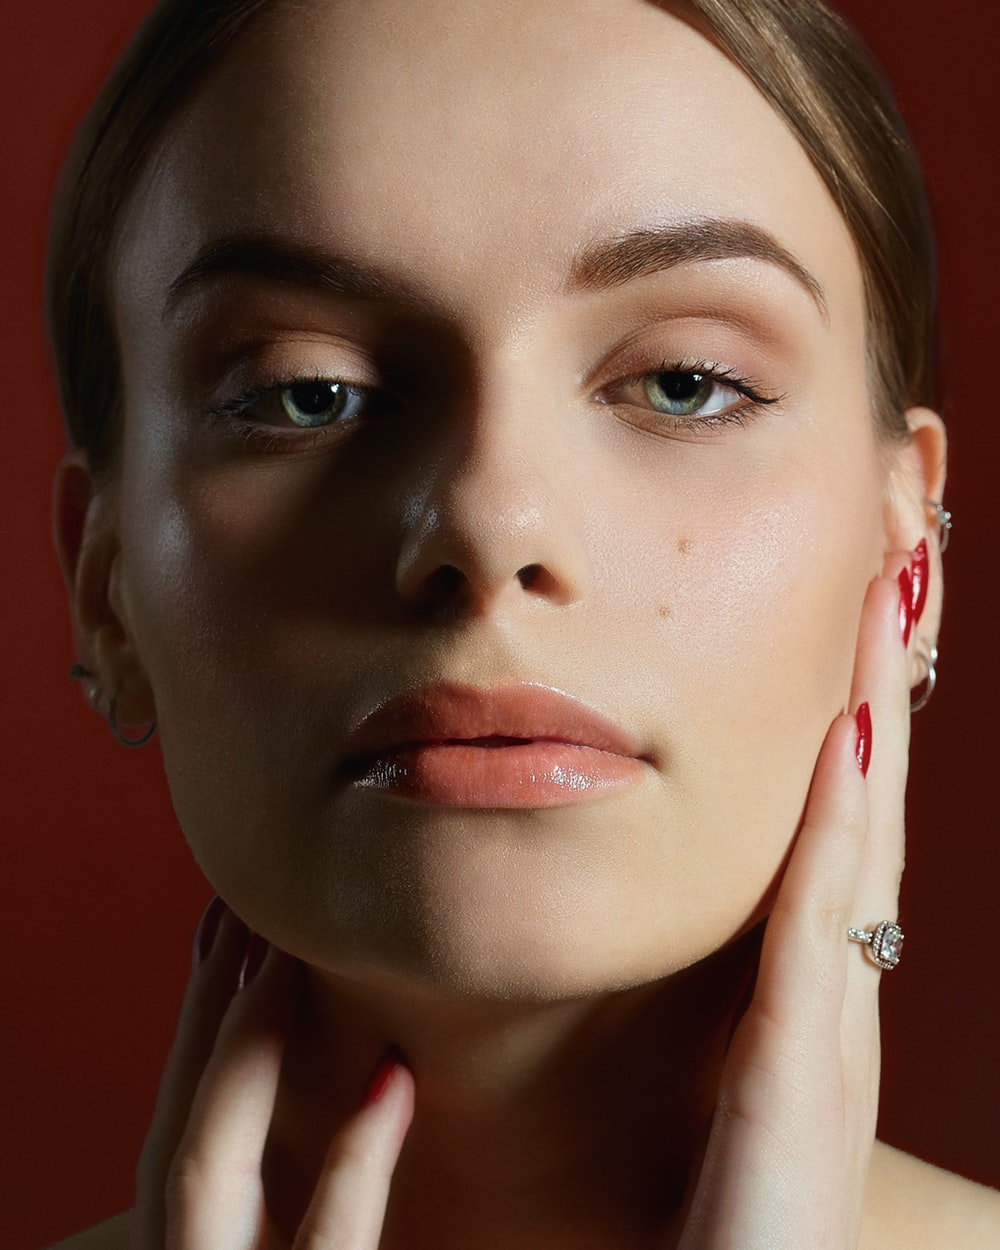ears: (56, 454, 154, 728)
eyes: (578, 314, 787, 442), (214, 337, 394, 454)
mouth: (330, 678, 667, 813)
nose: (387, 434, 594, 616)
